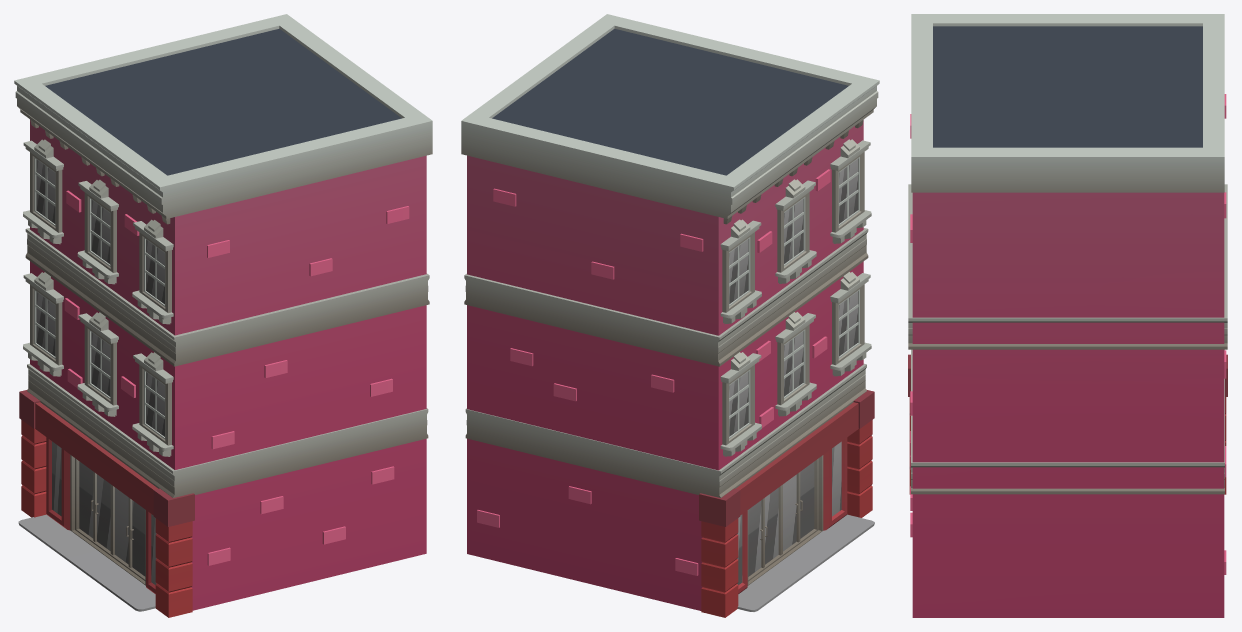
Rendered from Building_21_3_C.glb.
The picture shows the model from 3 angles, left to right: view 1: azimuth 30°, elevation 25°; view 2: azimuth 150°, elevation 25°; view 3: azimuth 270°, elevation 25°; orthographic projection. The views are drawn at different scales.
Parts seen in each view (by area): view 1: Building_21_3_C; view 2: Building_21_3_C; view 3: Building_21_3_C.
Part boxes in pixels (bbox=[...]): Building_21_3_C: bbox=[14, 14, 432, 617]; Building_21_3_C: bbox=[461, 14, 879, 617]; Building_21_3_C: bbox=[908, 14, 1227, 617].
Size of the model in its own units: 7.79 by 11.41 by 7.13.
3 materials, 3 textured.
